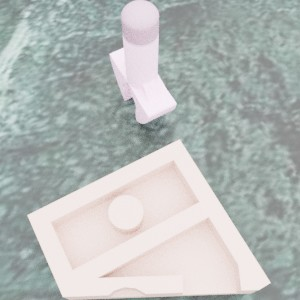lego: (27, 139, 270, 299), (109, 0, 176, 123)
